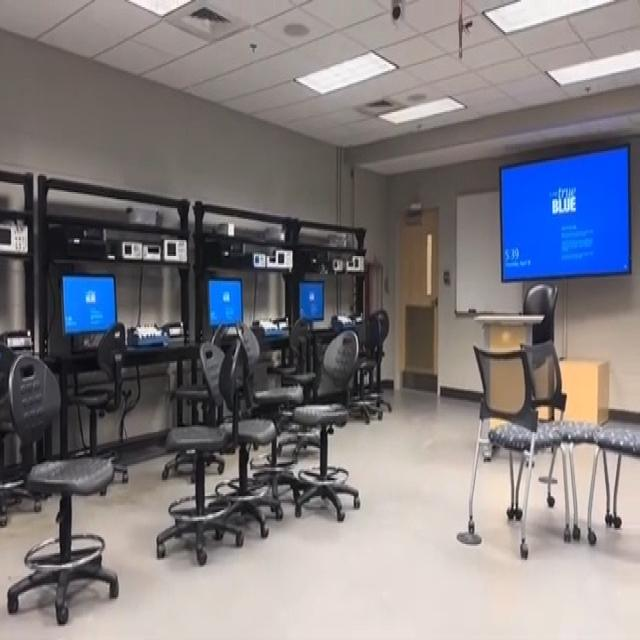drone: (315, 254, 337, 295)
